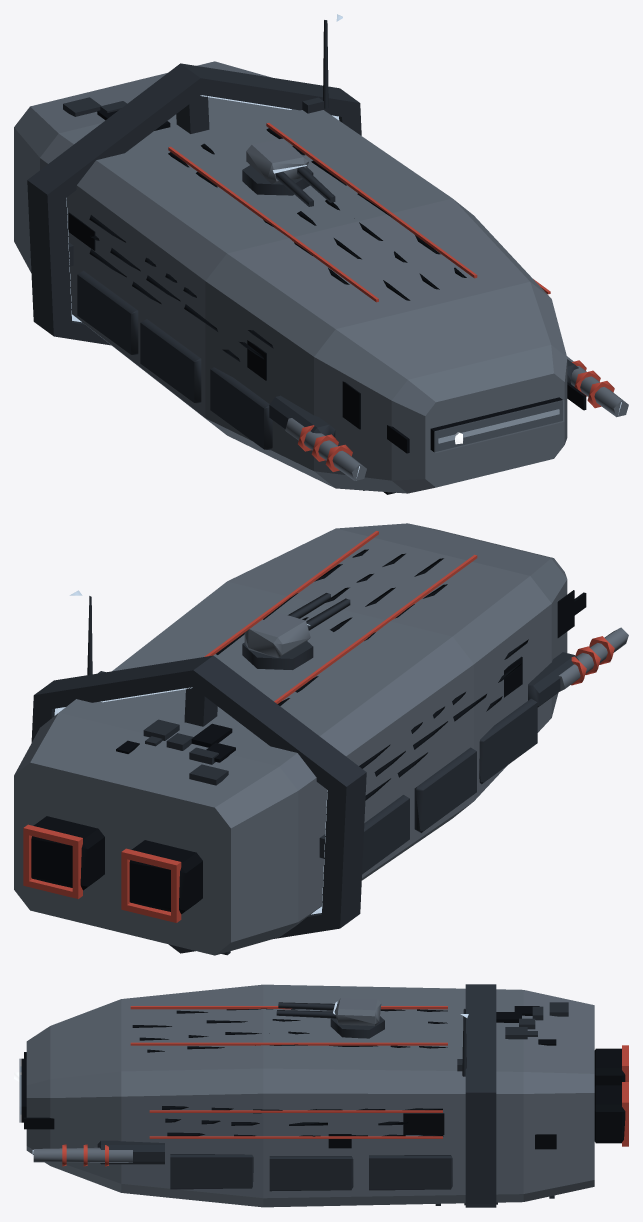
The model's file is paragraf-wykonawcy-coalition-27-lod1.glb.
3 renders of one model, top to bottom at view 1: azimuth 30°, elevation 25°; view 2: azimuth 150°, elevation 25°; view 3: azimuth 270°, elevation 25°, orthographic. The views are drawn at different scales.
Bounding box in the file's own units: 9.8 × 9.25 × 21.45.
